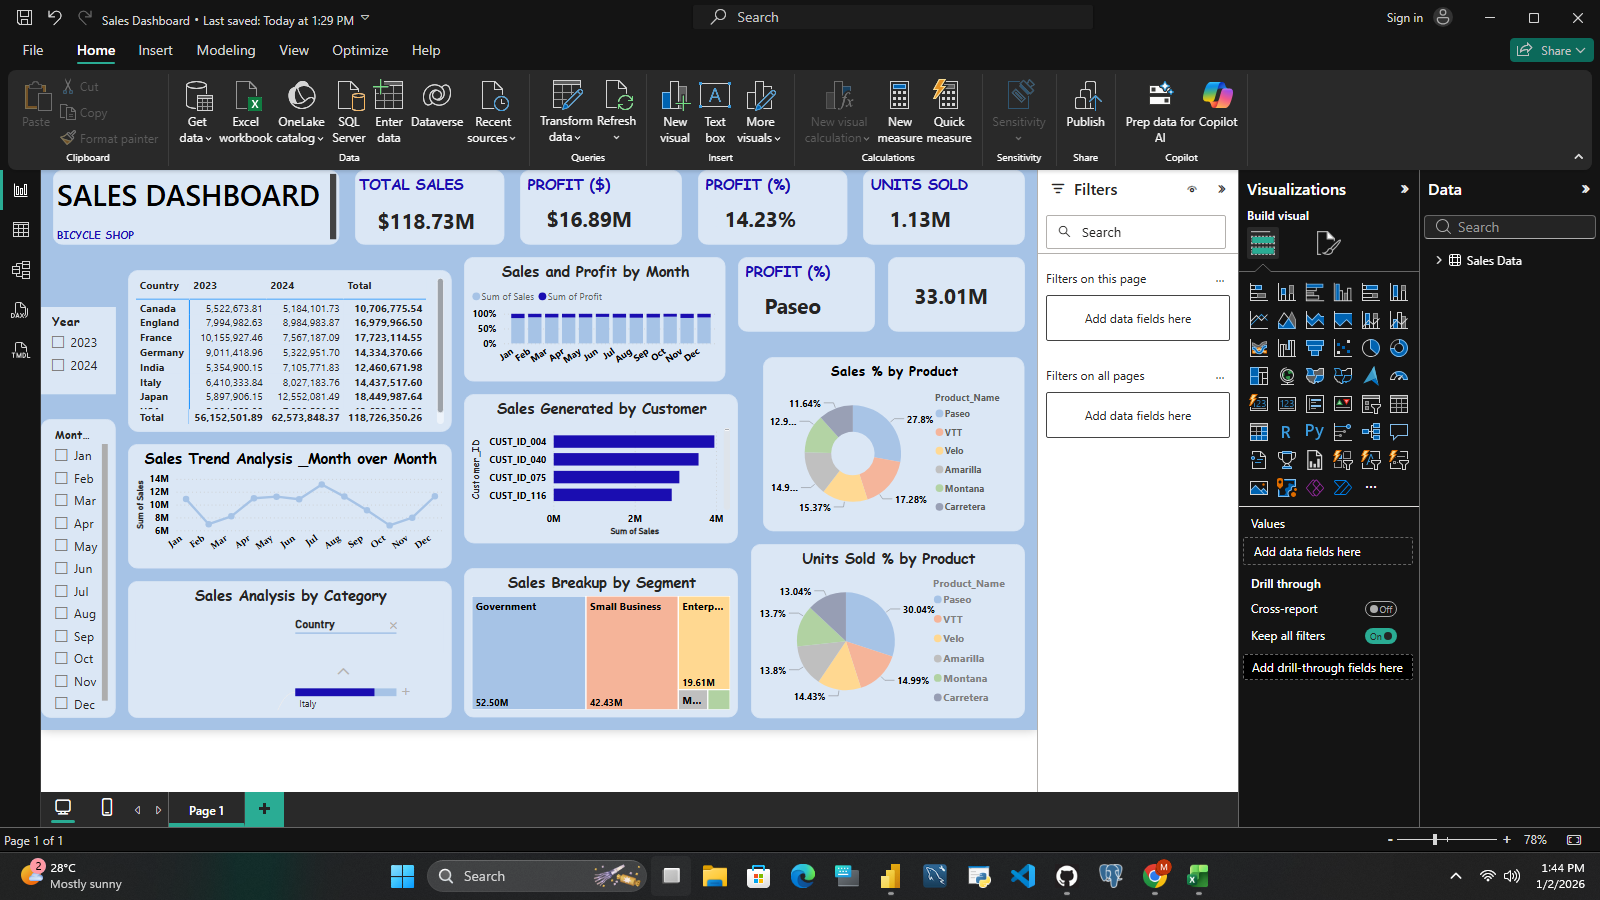

The dashboard page shown, as its layout file describes it:
{"tool":"powerbi","page":{"name":"Page 1","canvas":[1280,720],"ordinal":0},"visuals":[{"type":"cardVisual","title":"TOTAL SALES","fields":{"Data":["Sum(Sales Data.Sales)"]},"box":[404,0,192,96],"z":0},{"type":"cardVisual","title":"PROFIT (%)","fields":{"Data":["Sales Data.PROFIT(%)"]},"box":[844,0,192,96],"z":1000},{"type":"cardVisual","title":"PROFIT ($)","fields":{"Data":["Sum(Sales Data.Profit)"]},"box":[616,0,208,96],"z":2000},{"type":"cardVisual","title":"UNITS SOLD","fields":{"Data":["Sum(Sales Data.Units Sold)"]},"box":[1056,0,208,96],"z":3000},{"type":"donutChart","title":" Sales  % by Product","fields":{"Category":["Sales Data.Product_Name"],"Y":["Sum(Sales Data.Sales)"]},"box":[928,240,336,224],"z":6000},{"type":"pieChart","title":" Units Sold % by Product","fields":{"Y":["Sum(Sales Data.Units Sold)"],"Category":["Sales Data.Product_Name"]},"box":[912,480,352,224],"z":7000},{"type":"treemap","title":"Sales Breakup by Segment","fields":{"Group":["Sales Data.Segment"],"Values":["Sum(Sales Data.Sales)"]},"box":[544,512,352,192],"z":8000},{"type":"lineChart","title":"Sales Trend Analysis _Month over Month","fields":{"Y":["Sum(Sales Data.Sales)"],"Category":["Sales Data.Month Name"]},"box":[112,352,416,160],"z":8001},{"type":"slicer","fields":{"Values":["Sales Data.Year"]},"box":[0,176,96,112],"z":8002},{"type":"slicer","fields":{"Values":["Sales Data.Month Name"]},"box":[0,320,96,384],"z":8003},{"type":"textbox","box":[16,0,368,96],"z":8004},{"type":"clusteredBarChart","title":"Sales Generated by Customer","fields":{"Y":["Sum(Sales Data.Sales)"],"Category":["Sales Data.Customer_ID"]},"box":[544,288,352,192],"z":8005},{"type":"hundredPercentStackedColumnChart","title":"Sales and  Profit by Month ","fields":{"Category":["Sales Data.Month Name"],"Y":["Sum(Sales Data.Sales)","Sum(Sales Data.Profit)"]},"box":[544,112,336,160],"z":8006},{"type":"pivotTable","fields":{"Rows":["Sales Data.Country"],"Columns":["Sales Data.Year"],"Values":["Sum(Sales Data.Sales)"]},"box":[112,128,416,208],"z":8007},{"type":"decompositionTreeVisual","title":"Sales Analysis by Category","fields":{"Analyze":["Sum(Sales Data.Sales)"],"ExplainBy":["Sales Data.Country","Sales Data.Product_Name","Sales Data.Segment"]},"box":[112,528,416,176],"z":8008},{"type":"cardVisual","title":"PROFIT (%)","fields":{"Data":["Min(Sales Data.Product_Name)"]},"box":[896,112,176,96],"z":8010},{"type":"cardVisual","title":"PROFIT (%)","fields":{"Data":["Sum(Sales Data.Sales)"]},"box":[1088,112,176,96],"z":8011}]}

Visuals, with their boxes on the page's 1280x720 design canvas (x1, y1, x2, y2). These are canvas units, not pixel positions in the 1600x900 screenshot, which may show the page scaled, cropped or inside an application window:
"TOTAL SALES" cardVisual: (left=404, top=0, right=596, bottom=96)
"PROFIT (%)" cardVisual: (left=844, top=0, right=1036, bottom=96)
"PROFIT ($)" cardVisual: (left=616, top=0, right=824, bottom=96)
"UNITS SOLD" cardVisual: (left=1056, top=0, right=1264, bottom=96)
" Sales  % by Product" donutChart: (left=928, top=240, right=1264, bottom=464)
" Units Sold % by Product" pieChart: (left=912, top=480, right=1264, bottom=704)
"Sales Breakup by Segment" treemap: (left=544, top=512, right=896, bottom=704)
"Sales Trend Analysis _Month over Month" lineChart: (left=112, top=352, right=528, bottom=512)
slicer - Sales Data.Year: (left=0, top=176, right=96, bottom=288)
slicer - Sales Data.Month Name: (left=0, top=320, right=96, bottom=704)
textbox: (left=16, top=0, right=384, bottom=96)
"Sales Generated by Customer" clusteredBarChart: (left=544, top=288, right=896, bottom=480)
"Sales and  Profit by Month " hundredPercentStackedColumnChart: (left=544, top=112, right=880, bottom=272)
pivotTable - Sales Data.Country x Sales Data.Year: (left=112, top=128, right=528, bottom=336)
"Sales Analysis by Category" decompositionTreeVisual: (left=112, top=528, right=528, bottom=704)
"PROFIT (%)" cardVisual: (left=896, top=112, right=1072, bottom=208)
"PROFIT (%)" cardVisual: (left=1088, top=112, right=1264, bottom=208)
